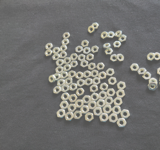nut: (117, 118, 127, 129), (88, 101, 98, 111), (121, 110, 132, 119), (149, 78, 159, 87), (130, 64, 140, 73), (109, 53, 118, 63), (109, 114, 118, 124), (116, 90, 126, 99), (113, 98, 123, 107), (103, 105, 113, 114), (69, 94, 78, 104), (142, 72, 153, 80), (149, 82, 158, 91), (108, 77, 117, 86), (70, 52, 79, 61), (100, 83, 109, 92), (105, 97, 114, 106), (100, 115, 109, 124), (98, 91, 107, 100), (81, 106, 90, 115), (65, 112, 74, 121), (61, 93, 70, 102), (75, 100, 84, 109), (55, 66, 64, 75), (112, 107, 122, 115), (107, 89, 117, 97), (86, 113, 94, 123), (138, 68, 147, 76), (118, 82, 127, 90), (108, 30, 116, 39), (100, 31, 108, 40), (117, 54, 125, 63), (104, 48, 113, 56), (91, 45, 99, 54), (59, 51, 68, 59), (97, 63, 105, 72), (91, 69, 99, 78), (90, 85, 99, 93), (83, 70, 91, 79), (85, 77, 93, 86), (77, 88, 85, 97), (97, 100, 106, 108), (57, 110, 66, 118), (74, 111, 82, 120), (77, 79, 85, 88), (70, 83, 78, 92), (61, 85, 69, 94), (60, 71, 68, 80), (148, 52, 155, 62), (119, 34, 127, 42), (114, 41, 122, 49), (115, 30, 123, 38), (87, 25, 95, 33), (83, 47, 91, 55), (76, 45, 84, 53), (52, 53, 60, 61), (107, 69, 115, 77), (99, 72, 107, 80), (88, 63, 96, 71), (86, 54, 94, 62), (78, 54, 86, 62), (93, 77, 101, 85), (94, 108, 102, 116), (91, 94, 99, 102), (83, 96, 91, 104), (60, 101, 68, 109), (77, 88, 85, 96), (57, 79, 65, 87), (68, 71, 76, 79), (62, 32, 71, 39), (45, 50, 54, 57), (80, 61, 89, 68), (54, 86, 61, 95), (70, 60, 77, 69), (103, 42, 111, 49), (81, 40, 89, 47), (62, 39, 70, 46), (60, 45, 68, 52), (53, 46, 60, 54), (64, 57, 71, 65), (56, 59, 64, 66), (76, 72, 83, 80), (68, 105, 76, 112), (66, 78, 73, 86), (154, 53, 160, 62), (49, 75, 55, 84), (92, 23, 99, 30), (46, 43, 53, 50), (54, 74, 61, 81), (64, 65, 71, 72), (103, 43, 111, 49), (158, 67, 160, 76), (159, 76, 160, 83)
